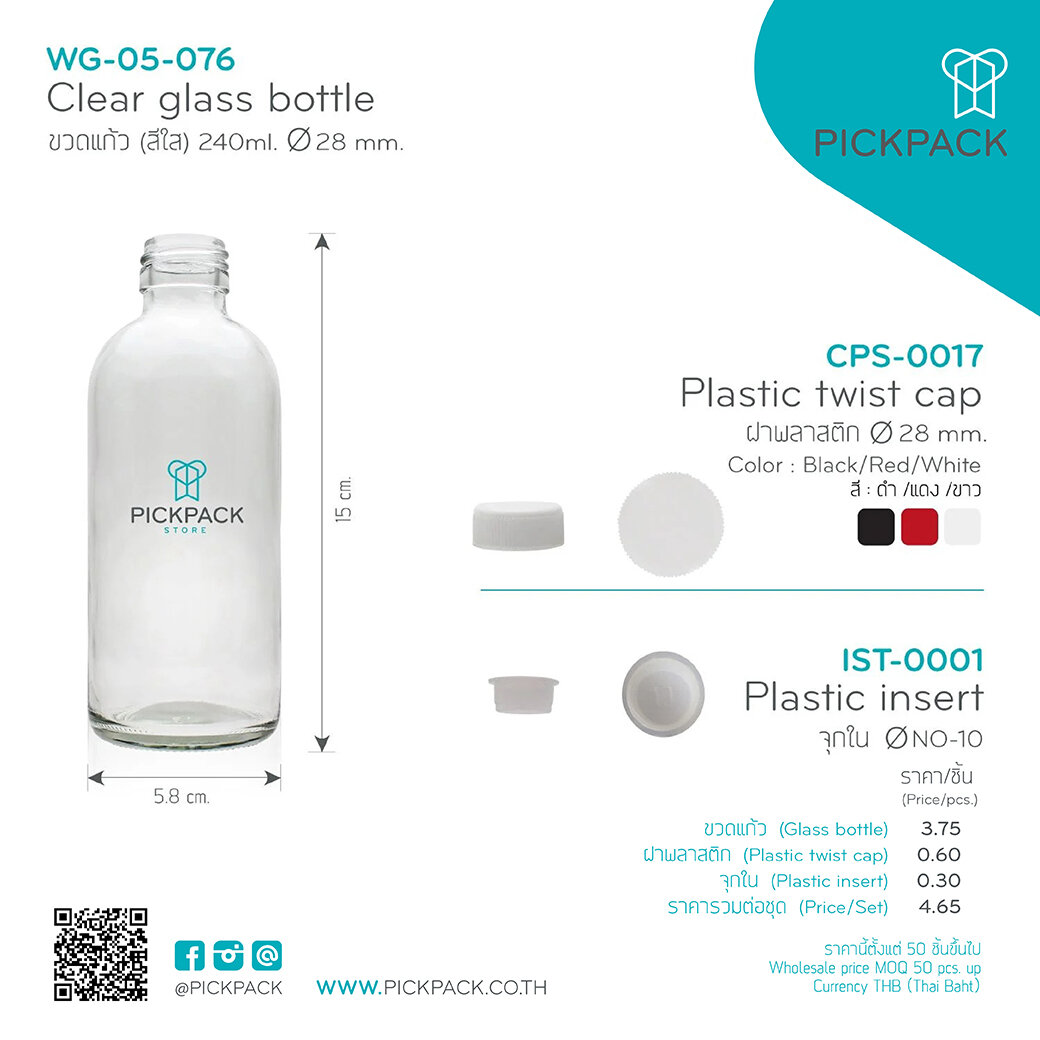glass_bottle: (53, 205, 308, 762)
